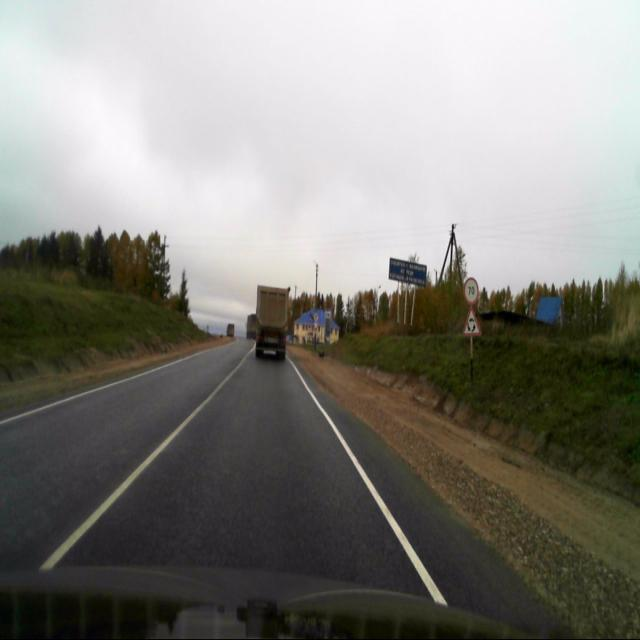object: (470, 340, 474, 387)
road sign: (462, 307, 480, 337)
